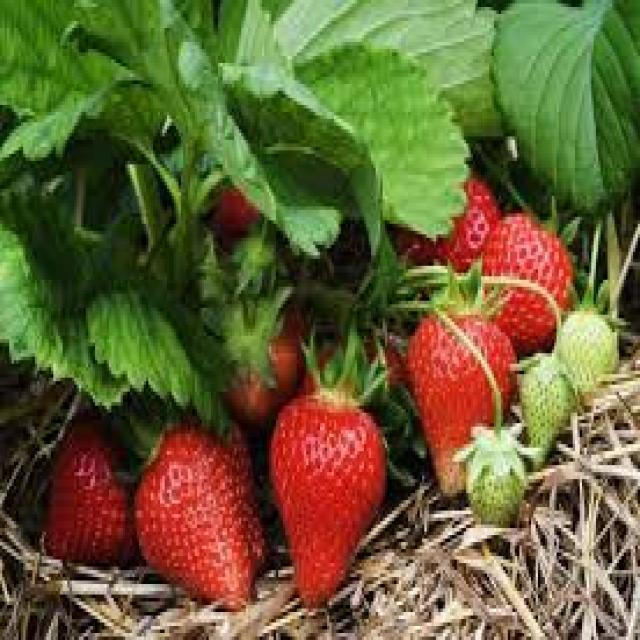Fruta sana: (260, 376, 394, 610), (404, 297, 528, 509), (132, 416, 256, 607), (44, 406, 135, 566), (480, 198, 575, 340), (384, 159, 496, 266), (219, 300, 305, 408), (205, 159, 262, 236)
